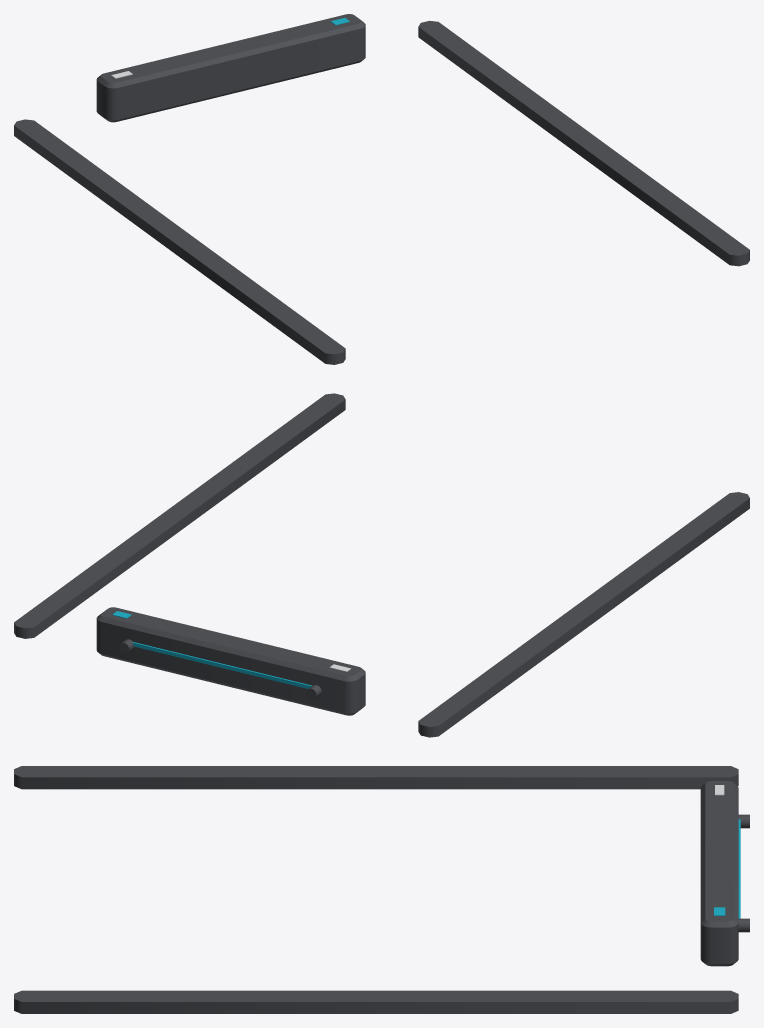
File: mcc3_mount.obj
3 views of the same model, one above another, from view 1: azimuth 30°, elevation 25°; view 2: azimuth 150°, elevation 25°; view 3: azimuth 270°, elevation 25° (orthographic). The views are drawn at different scales.
Parts seen in each view (by area): view 1: mcc3_mount; view 2: mcc3_mount; view 3: mcc3_mount.
Boxes of the visible parts, <box> form: mcc3_mount: <box>14,14,749,364</box>; mcc3_mount: <box>14,393,749,737</box>; mcc3_mount: <box>14,766,749,1013</box>.
Bounding box in the file's own units: 1.47 × 0.132 × 1.94.
